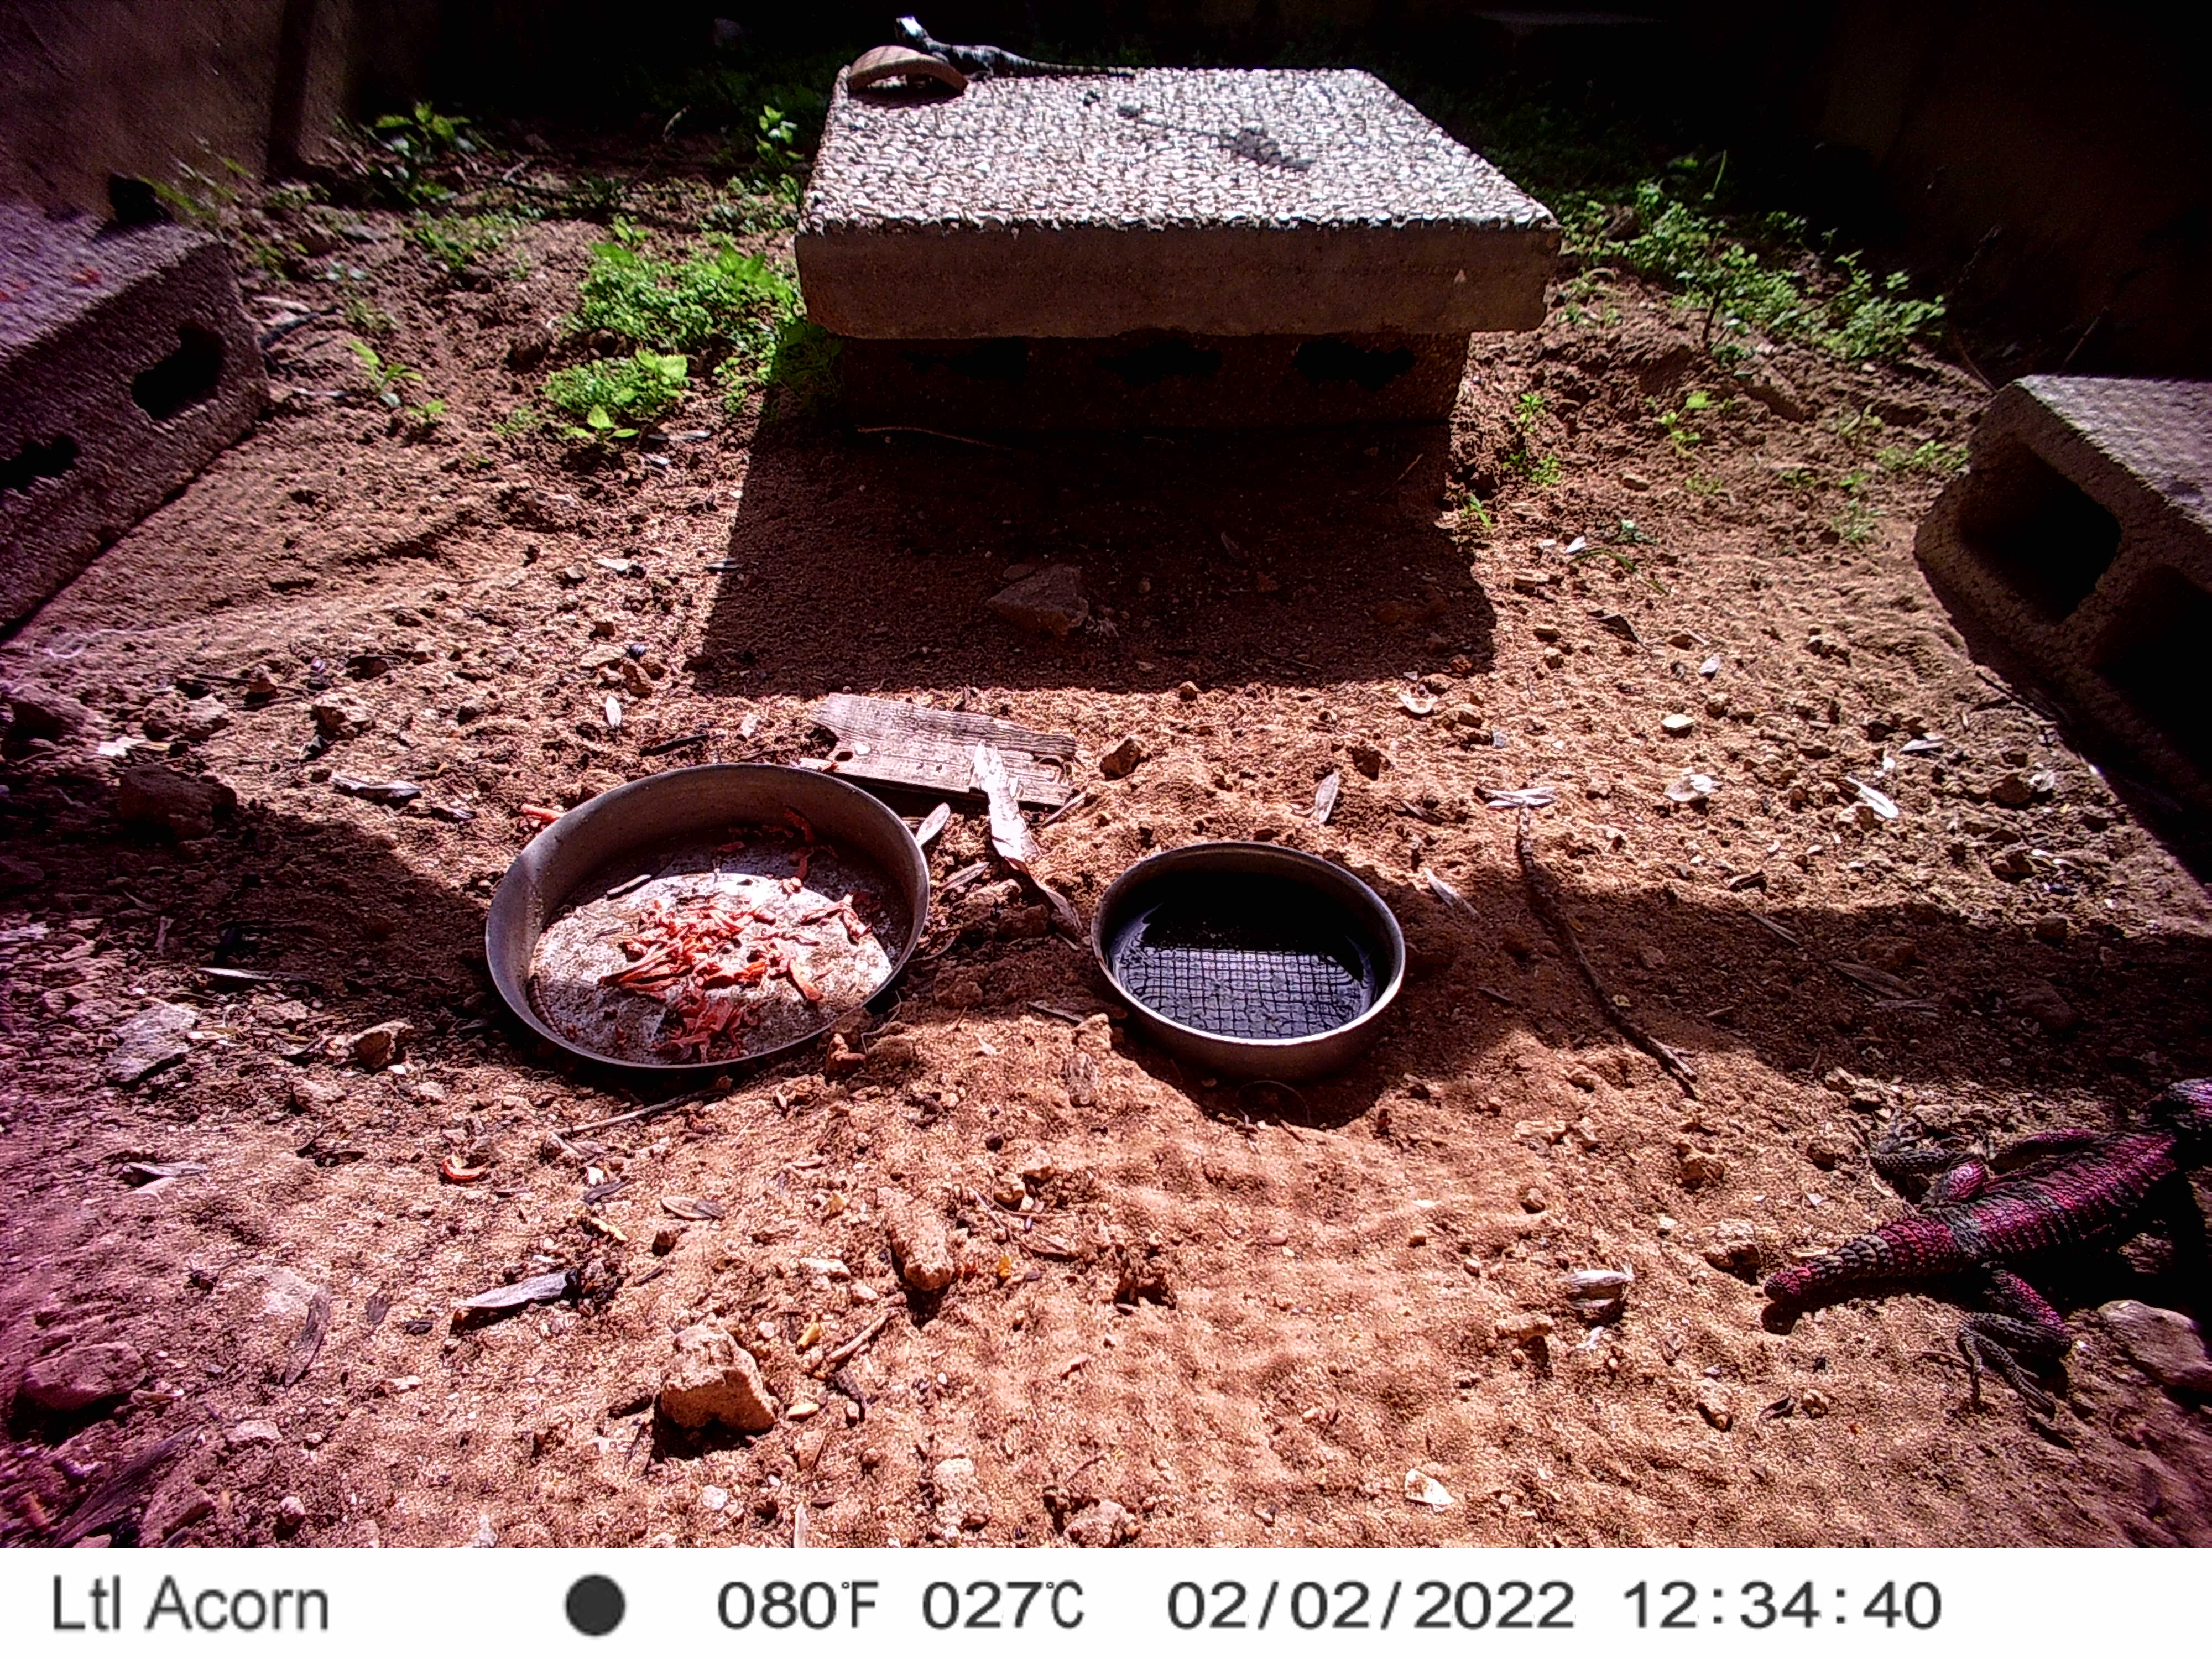lizard: (1740, 1054, 2210, 1405), (892, 10, 1143, 87)
